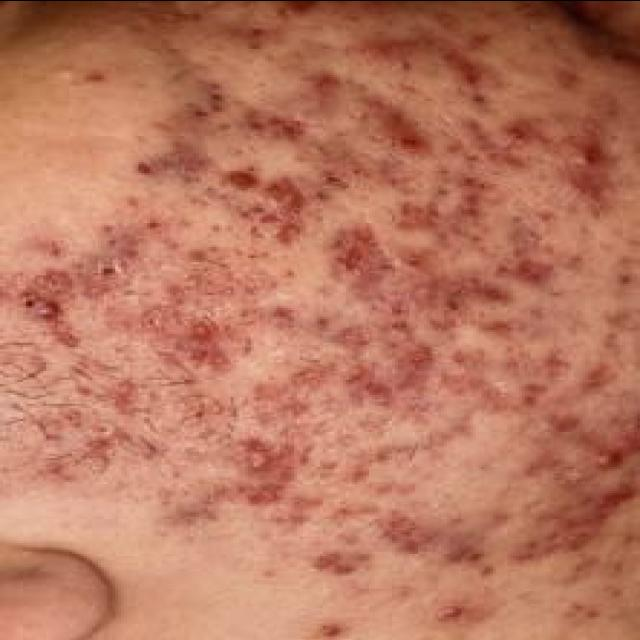Acne: (504, 481, 634, 566), (218, 166, 304, 246), (408, 274, 514, 330), (551, 129, 613, 206), (360, 96, 433, 156), (230, 436, 290, 506), (323, 220, 383, 282), (235, 102, 307, 144), (338, 360, 398, 410), (183, 317, 234, 375), (369, 510, 431, 556), (434, 526, 490, 568), (12, 286, 68, 326), (496, 257, 554, 287), (578, 439, 624, 475), (304, 550, 356, 578), (428, 596, 472, 628), (493, 118, 539, 144)
